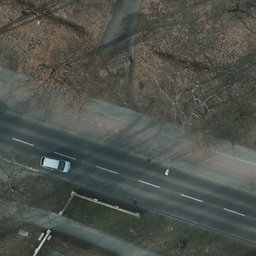car: (41, 155, 71, 173)
